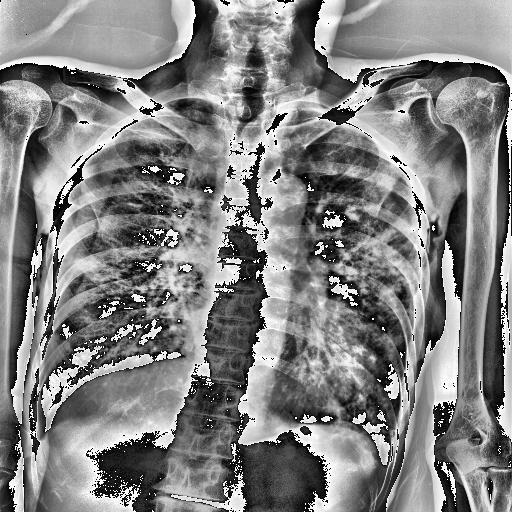0- Aortic enlargement: (254, 173, 306, 213)
10- Pleural effusion: (374, 452, 392, 477), (32, 422, 50, 446)
11- Pleural thickening: (274, 100, 358, 130), (374, 452, 392, 477), (32, 422, 50, 446)
13- Pulmonary fibrosis: (282, 158, 409, 436), (298, 160, 412, 426), (69, 192, 146, 288), (73, 258, 135, 292)
5- ILD: (282, 158, 409, 436), (298, 160, 412, 426), (297, 208, 414, 436), (70, 249, 187, 358), (69, 192, 146, 288), (73, 258, 135, 292)
6- Infiltration: (298, 160, 412, 426), (297, 208, 414, 436)
9- Other lesion: (282, 158, 409, 436)
